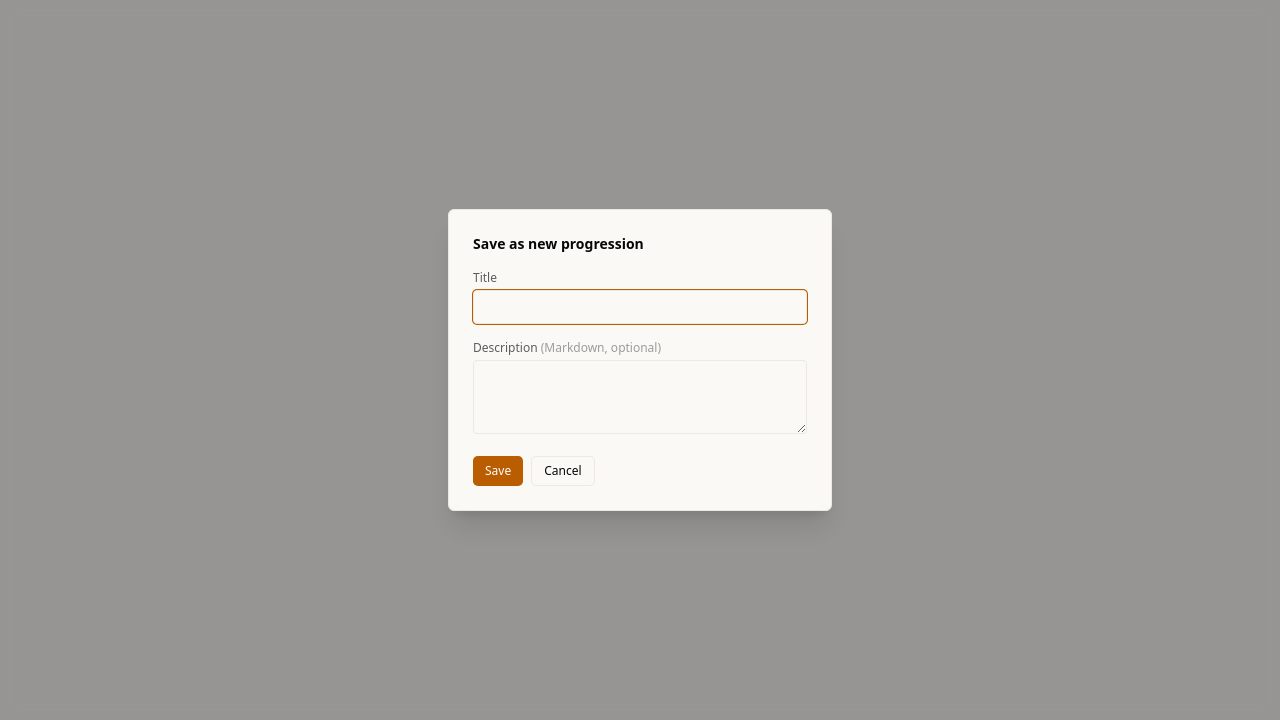
Test: SaveAsModal › shows error when title is empty on save
Click the button "Save" at (498, 471), box [473,456,523,486]
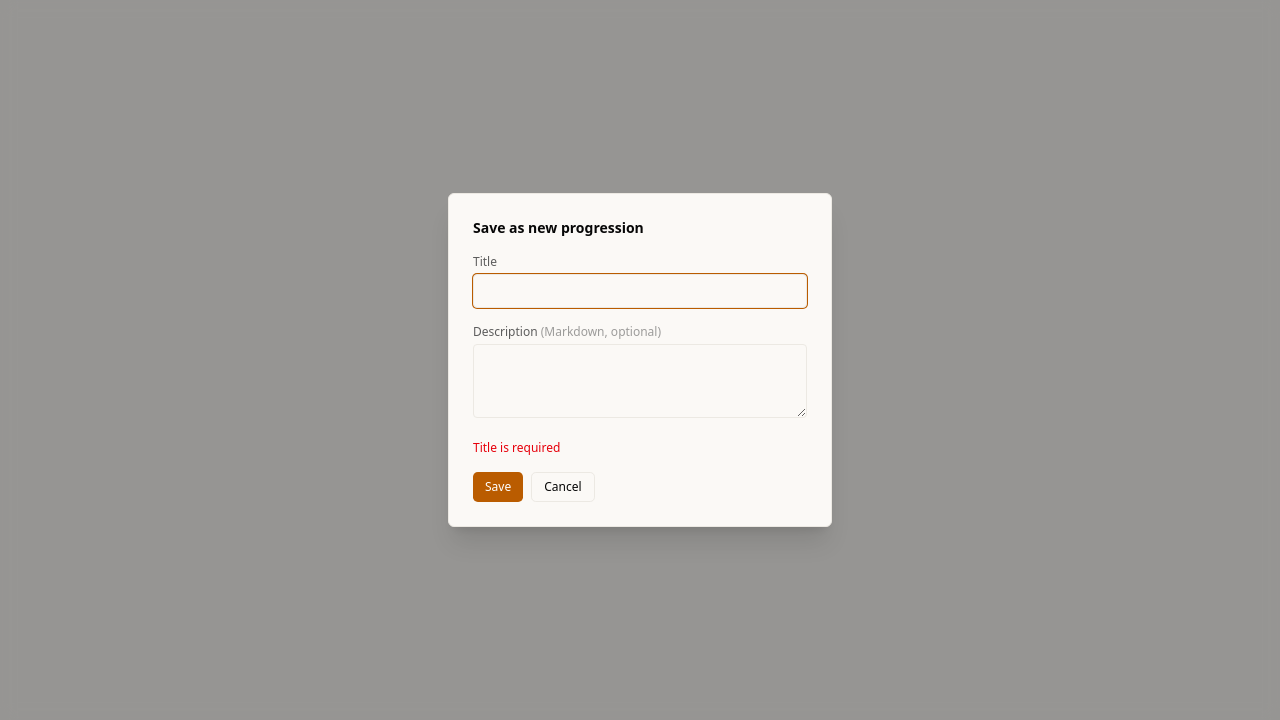
Now the text "Title is required" is shown, box [473,439,560,456]
